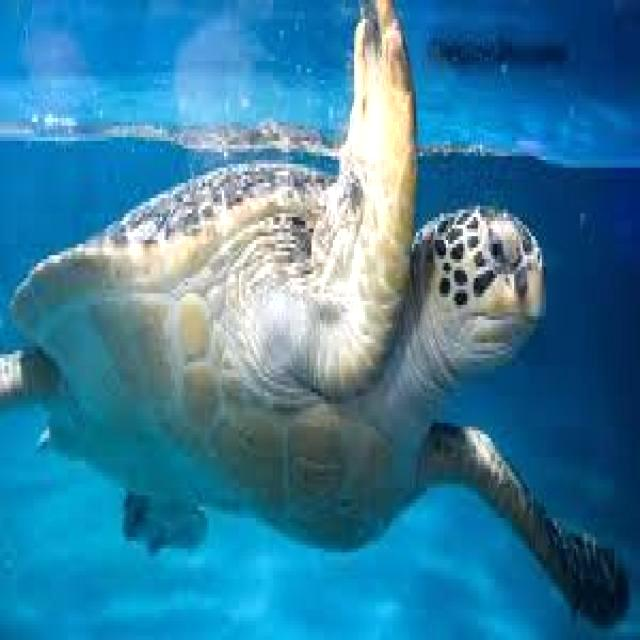Sea turtle: (16, 60, 634, 640)
